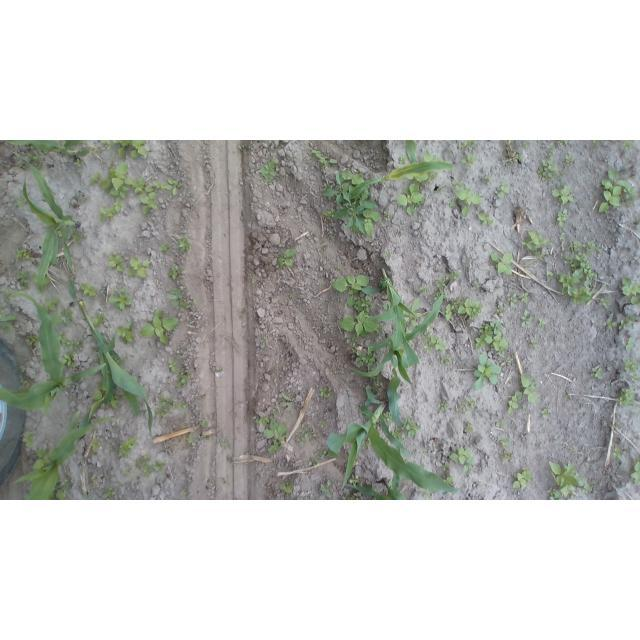Maize: (327, 383, 469, 495), (0, 290, 106, 415), (12, 153, 85, 298), (78, 299, 155, 433), (12, 410, 121, 500), (348, 293, 445, 387), (348, 140, 453, 200), (365, 268, 419, 367), (346, 475, 409, 500), (6, 141, 89, 158)
Weeds: (102, 163, 182, 221), (325, 167, 380, 236), (596, 165, 637, 214), (340, 293, 385, 335), (549, 461, 592, 496), (141, 309, 179, 344), (449, 179, 483, 218), (331, 272, 369, 306), (558, 266, 593, 302), (563, 238, 595, 277), (475, 319, 510, 351), (474, 354, 503, 389), (445, 298, 484, 323), (522, 231, 556, 257), (400, 181, 425, 215), (449, 445, 476, 471), (421, 328, 445, 355), (405, 297, 424, 327), (116, 141, 149, 158), (108, 288, 132, 311), (500, 141, 524, 164), (520, 374, 541, 400), (621, 276, 640, 304), (492, 253, 515, 276), (129, 256, 152, 279), (295, 422, 318, 445), (400, 415, 422, 438), (52, 308, 79, 326), (1, 307, 20, 332), (311, 149, 340, 164), (512, 468, 533, 488), (168, 288, 189, 308), (552, 184, 574, 203), (259, 158, 277, 181), (265, 419, 288, 437), (506, 390, 523, 414), (432, 277, 448, 301), (538, 159, 557, 179), (119, 437, 137, 458), (505, 291, 527, 308), (116, 322, 134, 342), (108, 254, 125, 275), (277, 250, 298, 267), (32, 447, 49, 468), (617, 387, 635, 406), (618, 314, 638, 331), (457, 397, 478, 412), (623, 356, 640, 374), (17, 270, 32, 290), (281, 392, 296, 412), (60, 352, 77, 369), (356, 353, 376, 367), (497, 181, 511, 200), (43, 298, 63, 311), (24, 432, 37, 451), (630, 460, 640, 484), (173, 400, 190, 414), (79, 283, 97, 296), (320, 480, 332, 499), (556, 208, 568, 226), (169, 265, 184, 279), (179, 237, 193, 252), (92, 438, 104, 455), (343, 489, 361, 500), (408, 173, 430, 182), (478, 211, 492, 225), (17, 248, 31, 262), (548, 488, 564, 500), (280, 477, 292, 493), (521, 309, 531, 328), (462, 154, 475, 168), (135, 455, 149, 468), (18, 377, 33, 389), (154, 407, 170, 418), (546, 143, 556, 160), (614, 448, 627, 461), (455, 140, 476, 148), (112, 394, 123, 409), (89, 170, 99, 186), (526, 335, 538, 348), (59, 332, 71, 345), (27, 332, 39, 345), (269, 439, 280, 453), (54, 489, 68, 500), (346, 335, 359, 346), (626, 337, 637, 350), (598, 297, 612, 307), (28, 151, 42, 161), (437, 402, 452, 411), (498, 438, 513, 447), (256, 417, 271, 426), (180, 373, 192, 384), (72, 341, 83, 353), (320, 386, 333, 396), (373, 378, 383, 390), (392, 427, 404, 437), (382, 412, 392, 424), (592, 367, 604, 377), (168, 359, 176, 374), (16, 192, 26, 204), (219, 439, 232, 448), (435, 184, 445, 195), (441, 356, 452, 366), (606, 319, 617, 329), (494, 305, 504, 316), (96, 313, 106, 324), (71, 233, 82, 243), (350, 474, 361, 484), (564, 154, 576, 163), (153, 462, 165, 471), (92, 391, 105, 399), (623, 140, 633, 150), (75, 159, 85, 169), (484, 175, 493, 186), (463, 422, 473, 431), (542, 409, 551, 419), (540, 317, 549, 327), (421, 285, 430, 295), (105, 487, 114, 497), (143, 464, 152, 474), (384, 211, 392, 222), (451, 269, 462, 277), (186, 433, 194, 444), (161, 245, 173, 252), (430, 171, 439, 180), (546, 271, 554, 281), (504, 355, 512, 365), (18, 160, 28, 168), (319, 421, 329, 429), (100, 142, 111, 149), (399, 156, 408, 164), (201, 418, 210, 426), (443, 476, 453, 483), (442, 463, 450, 471), (191, 300, 200, 307), (631, 375, 640, 382), (325, 209, 331, 219), (423, 152, 429, 162), (158, 395, 168, 401), (3, 294, 11, 301), (315, 451, 323, 458), (472, 282, 480, 289), (387, 249, 394, 257), (361, 441, 370, 447), (424, 491, 432, 497), (594, 141, 600, 148), (506, 453, 513, 459), (524, 140, 531, 146), (558, 232, 566, 237), (556, 141, 568, 144), (58, 231, 63, 238), (91, 477, 97, 482), (352, 349, 357, 354), (297, 497, 304, 500)
